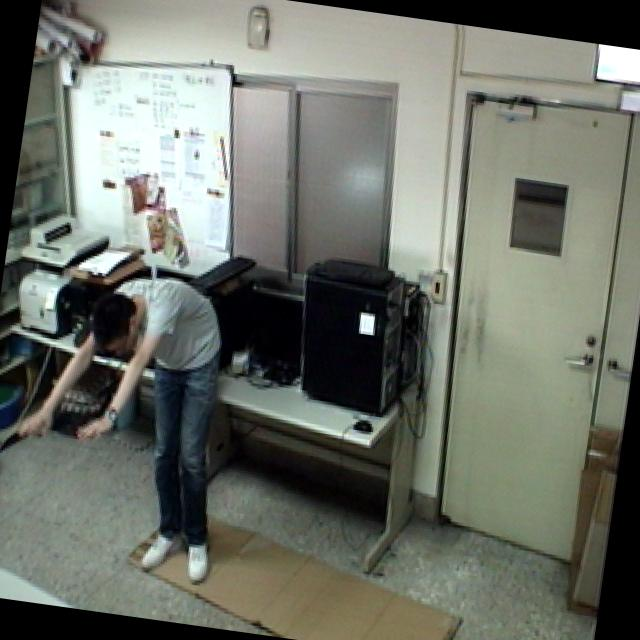bend: (0, 254, 251, 595)
